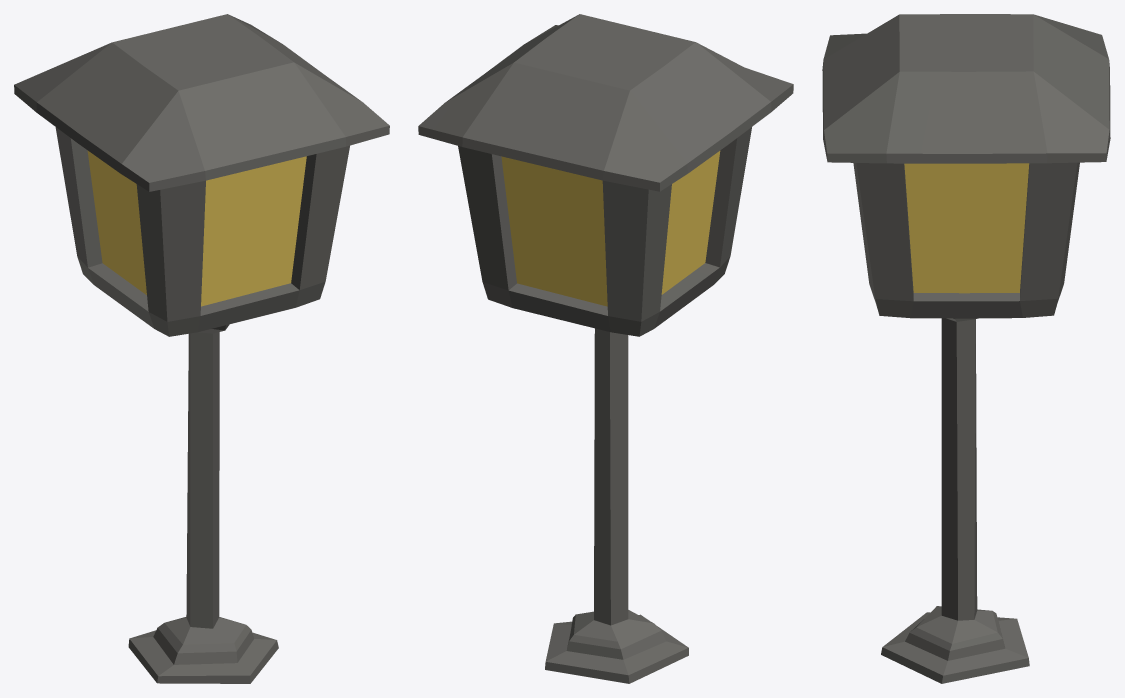
File: Patio_Lamp_231109.glb
3 views of the same model, side by side, from view 1: azimuth 30°, elevation 25°; view 2: azimuth 150°, elevation 25°; view 3: azimuth 270°, elevation 25° (orthographic).
Parts seen in each view (by area): view 1: Patio_Lamp; view 2: Patio_Lamp; view 3: Patio_Lamp.
Part boxes in pixels (box(x1,y1,x2,y2)): Patio_Lamp: box(14, 14, 389, 683); Patio_Lamp: box(418, 14, 793, 683); Patio_Lamp: box(822, 14, 1110, 683).
Bounding box in the file's own units: 0.4931 × 1.15 × 0.4933.
Materials: 1 (1 with a texture image).
